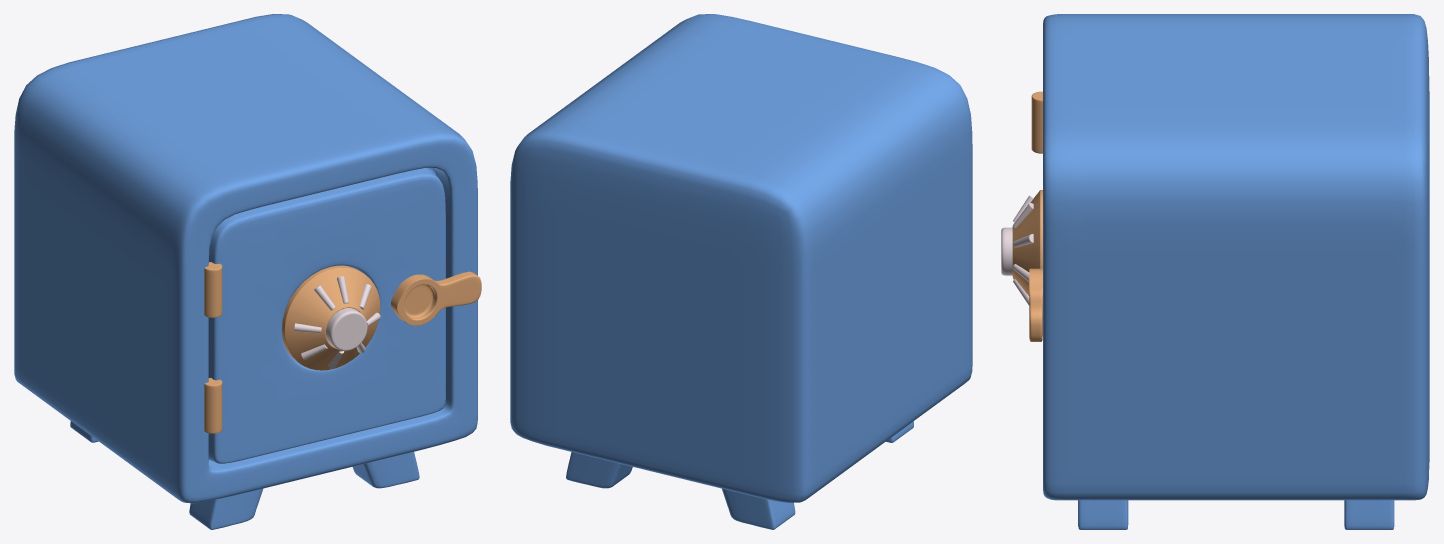
File: safe-transformed.glb
3 renders of one model, left to right at view 1: azimuth 30°, elevation 25°; view 2: azimuth 150°, elevation 25°; view 3: azimuth 270°, elevation 25°, orthographic. The views are drawn at different scales.
Visible parts, largest first — view 1: Cube_Material.003_0, Circle.001_Material.001_0, Circle_Material.002_0; view 2: Cube_Material.003_0; view 3: Cube_Material.003_0, Circle.001_Material.001_0, Circle_Material.002_0.
Part boxes in pixels (x1=…): Cube_Material.003_0: x1=14, y1=14, x2=477, y2=529; Circle.001_Material.001_0: x1=204, y1=262, x2=481, y2=433; Circle_Material.002_0: x1=294, y1=276, x2=380, y2=368; Cube_Material.003_0: x1=510, y1=14, x2=972, y2=529; Cube_Material.003_0: x1=1043, y1=14, x2=1429, y2=529; Circle.001_Material.001_0: x1=1012, y1=91, x2=1042, y2=341; Circle_Material.002_0: x1=1001, y1=195, x2=1033, y2=305.
Bounding box in the file's own units: 2 × 2.27 × 2.21.
